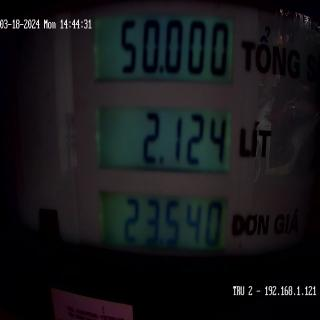screen: (89, 3, 239, 283)
